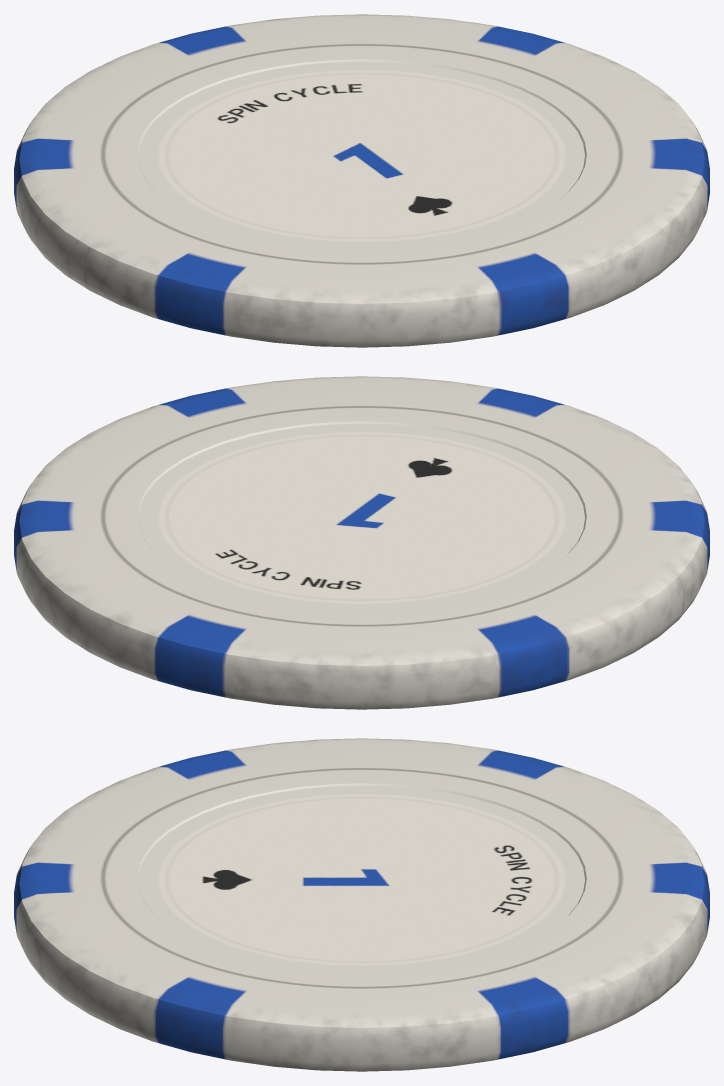
Rendered from SM_Chip_1.glb.
3 views of the same model, one above another, from view 1: azimuth 30°, elevation 25°; view 2: azimuth 150°, elevation 25°; view 3: azimuth 270°, elevation 25° (orthographic).
Parts seen in each view (by area): view 1: SM_Chip_1; view 2: SM_Chip_1; view 3: SM_Chip_1.
Part boxes in pixels (box(x1,y1,x2,y2)): SM_Chip_1: box(14, 14, 709, 347); SM_Chip_1: box(14, 376, 709, 709); SM_Chip_1: box(14, 738, 709, 1071).
Size of the model in its own units: 0.039 by 0.0033 by 0.039.
1 material, 1 textured.
